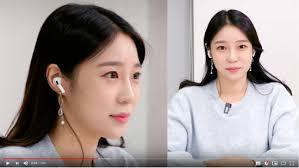earphone: (50, 75, 67, 97), (202, 49, 214, 60), (251, 48, 260, 57)
